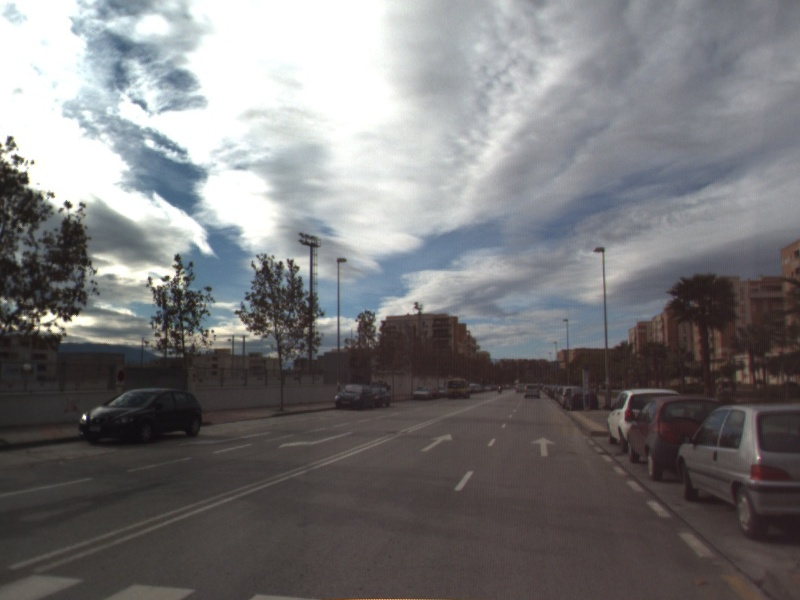STRAIGHT: (418, 432, 455, 453), (529, 435, 559, 458)
